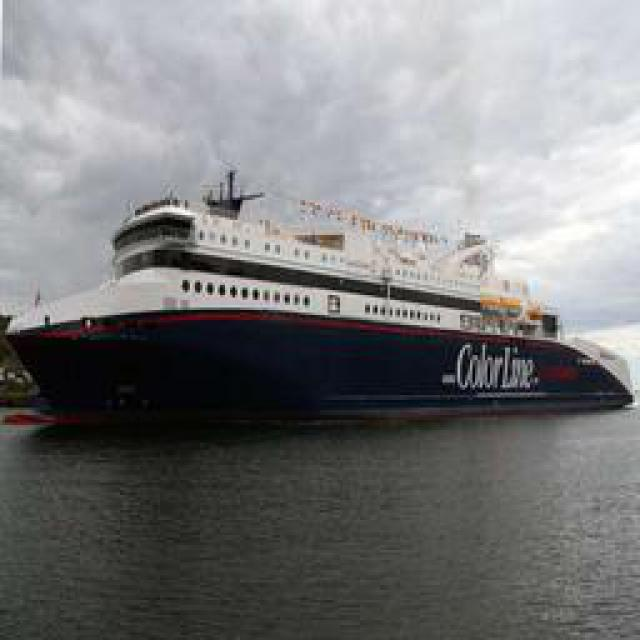Ship: (9, 172, 629, 425)
